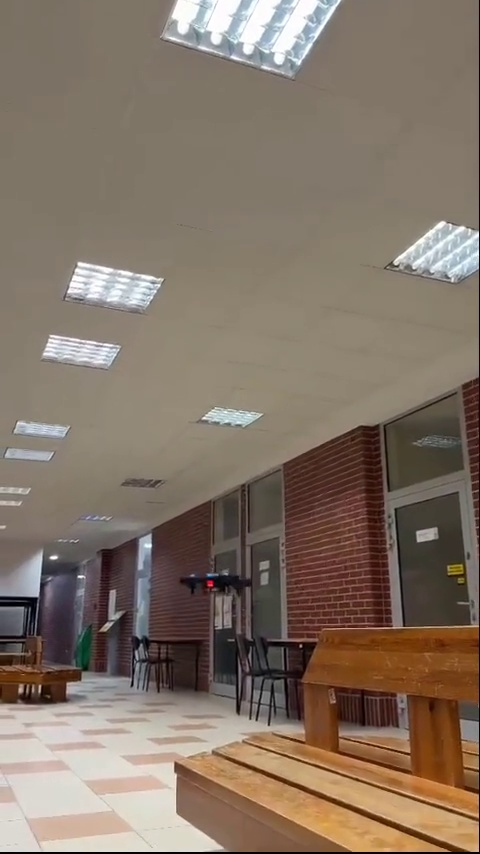drone: (174, 572, 252, 596)
